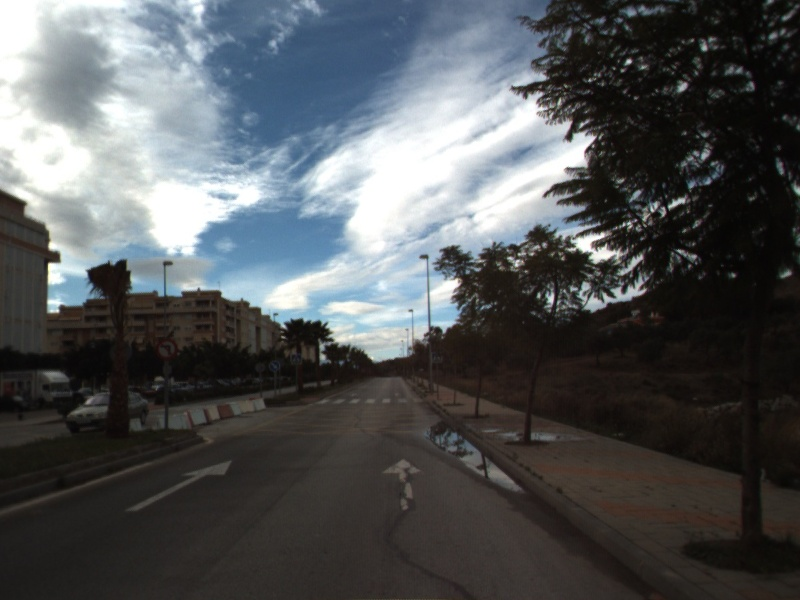STRAIGHT: (123, 458, 234, 513), (380, 456, 427, 514)
